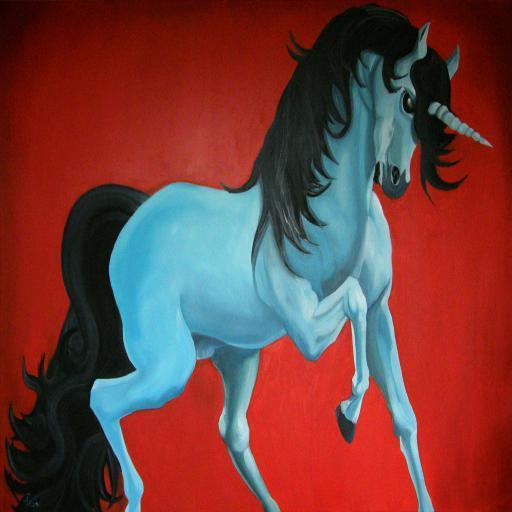horse: (4, 0, 496, 512)
